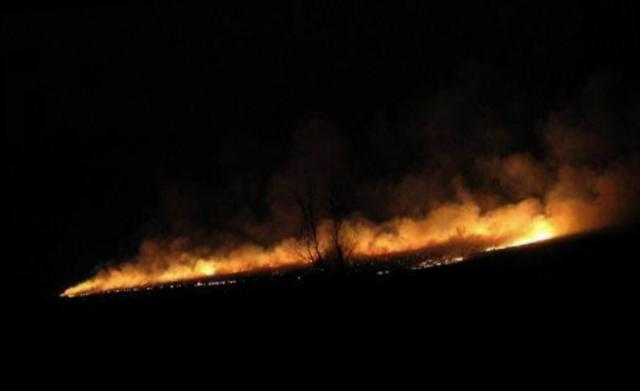fire: (53, 192, 564, 292)
